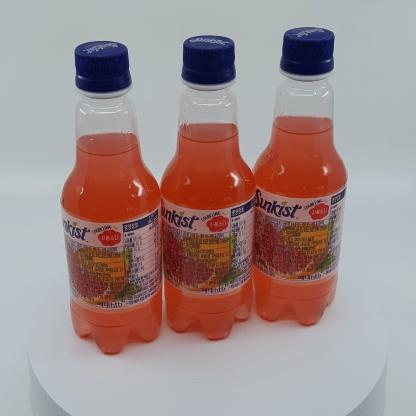----------350ML-PET-: (60, 41, 162, 353), (159, 35, 256, 339), (252, 27, 348, 325)
